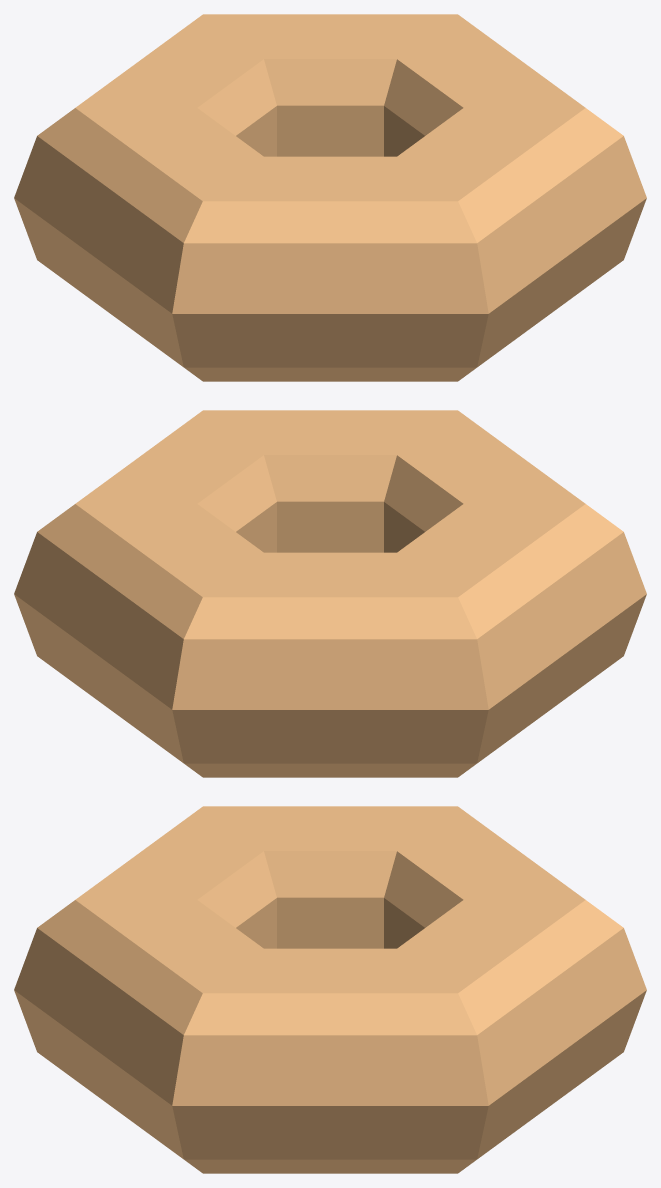
Rendered from donut.glb.
3 views of the same model, one above another, from view 1: azimuth 30°, elevation 25°; view 2: azimuth 150°, elevation 25°; view 3: azimuth 270°, elevation 25° (orthographic).
Visible parts, largest first — view 1: donut; view 2: donut; view 3: donut.
Part boxes in pixels (x1,y1,x2,y2): donut: (14, 14, 646, 381); donut: (14, 410, 646, 777); donut: (14, 806, 646, 1173).
Bounding box in the file's own units: 0.098 × 0.0356 × 0.1132.
